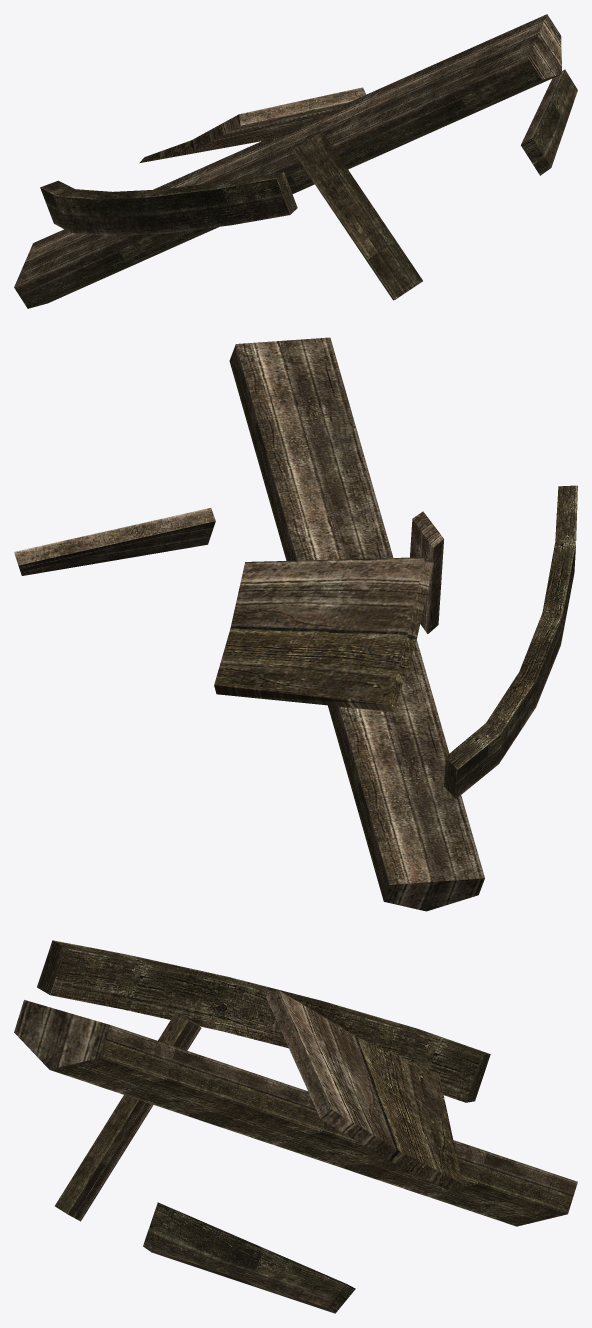
The model's file is ships_broken_piece03.glb.
The picture shows the model from 3 angles, top to bottom: view 1: azimuth 30°, elevation 25°; view 2: azimuth 150°, elevation 25°; view 3: azimuth 270°, elevation 25°; orthographic projection. The views are drawn at different scales.
Parts seen in each view (by area): view 1: ships_broken_piece03; view 2: ships_broken_piece03; view 3: ships_broken_piece03.
Boxes of the visible parts, x1=… form: ships_broken_piece03: x1=14, y1=14, x2=577, y2=308; ships_broken_piece03: x1=14, y1=337, x2=577, y2=911; ships_broken_piece03: x1=14, y1=940, x2=577, y2=1313.
Bounding box in the file's own units: 9.45 × 5.89 × 7.35.
1 material, 1 textured.
